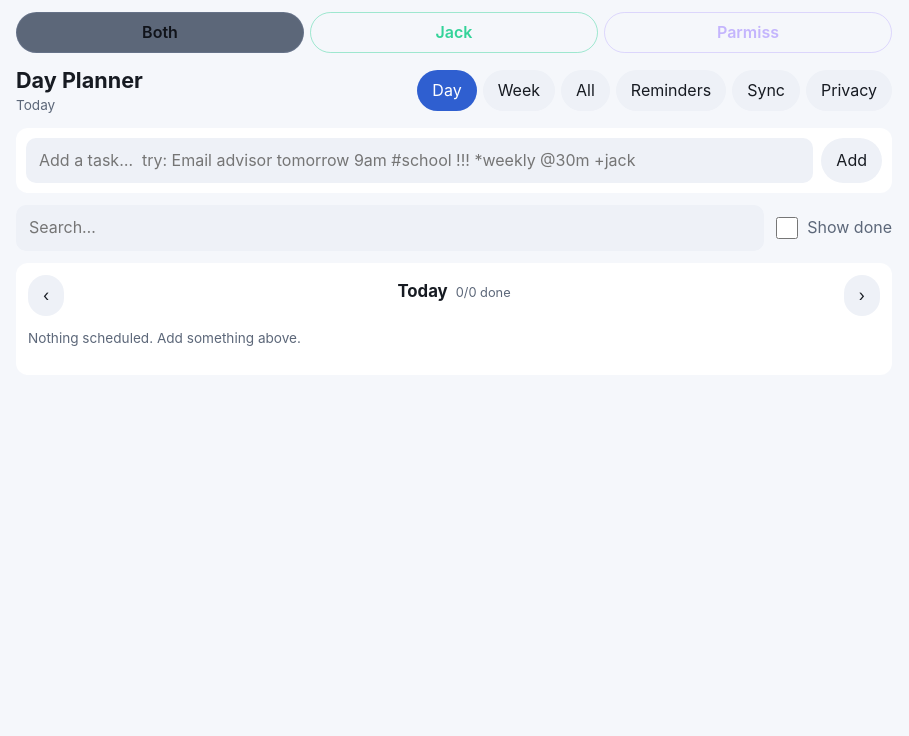
Scenario: App › reassigns a task to the other person from its details
The image size is (909, 736).
Type "Water plants" into the field labelled "Add a task" at (420, 161), box [26,138,813,183]
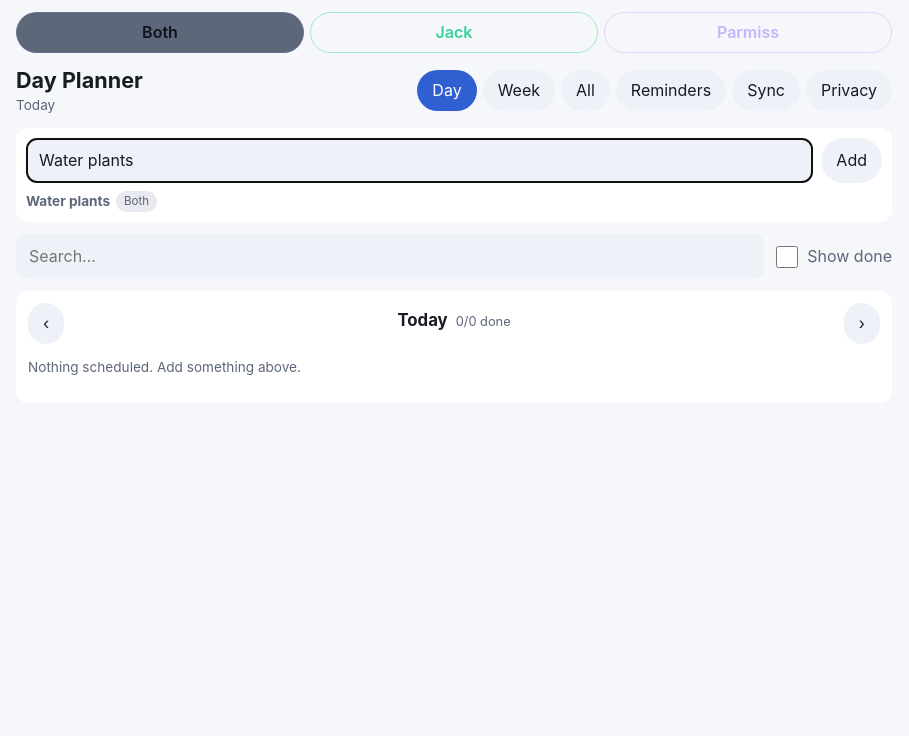
Click the button "Add" at (852, 161), box [821,138,882,183]
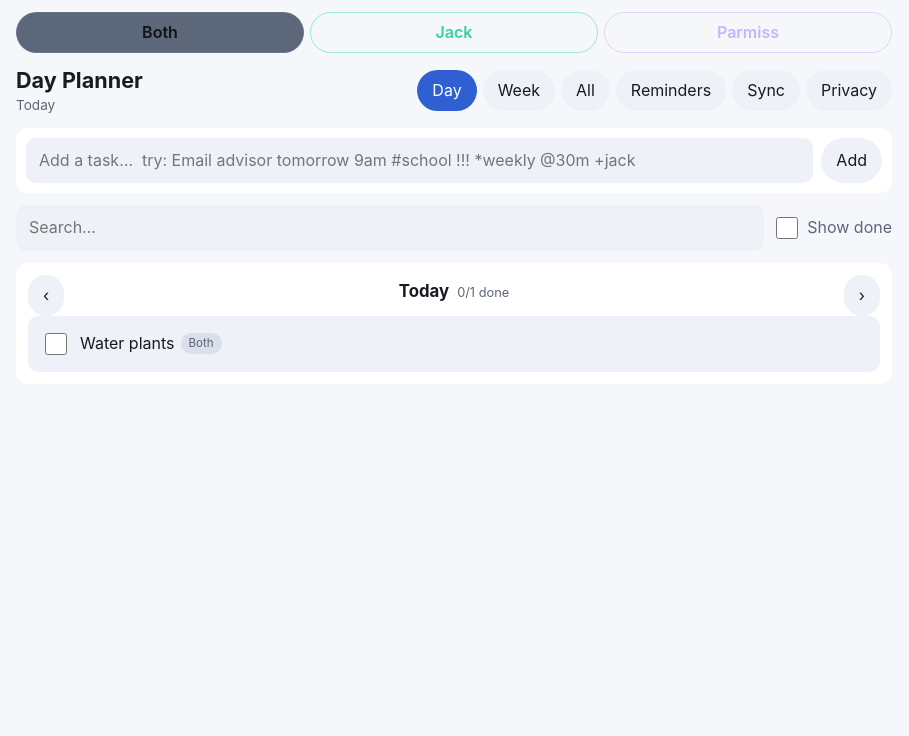
Click the button "Water plants Both" at (127, 343), box [80,324,870,364]
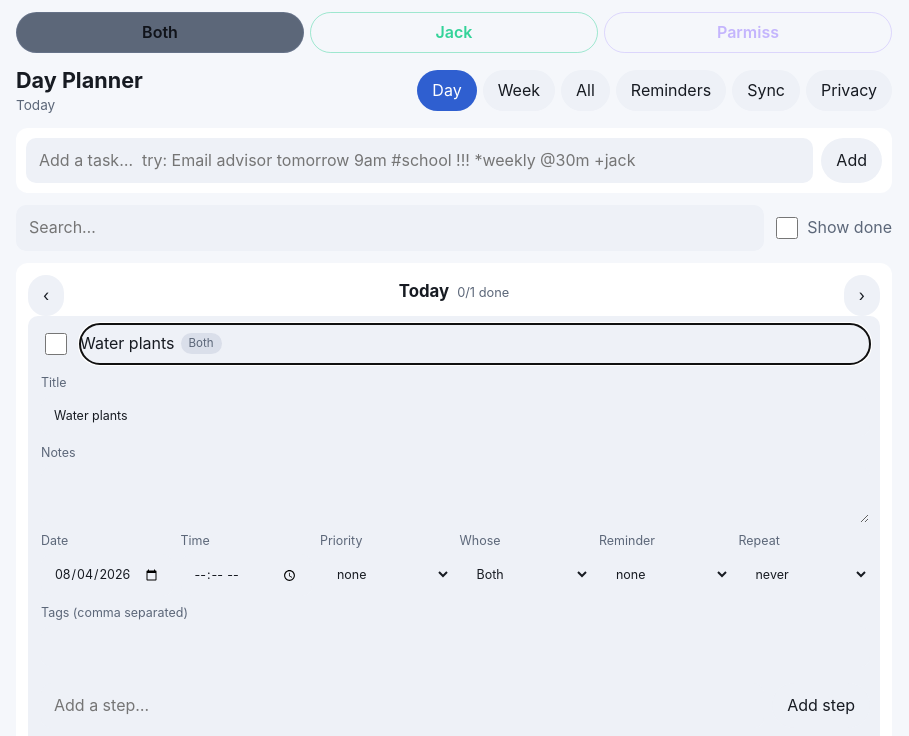
Select "Parmiss" in the dropdown labelled "Whose" at (525, 574), box [460,554,591,594]
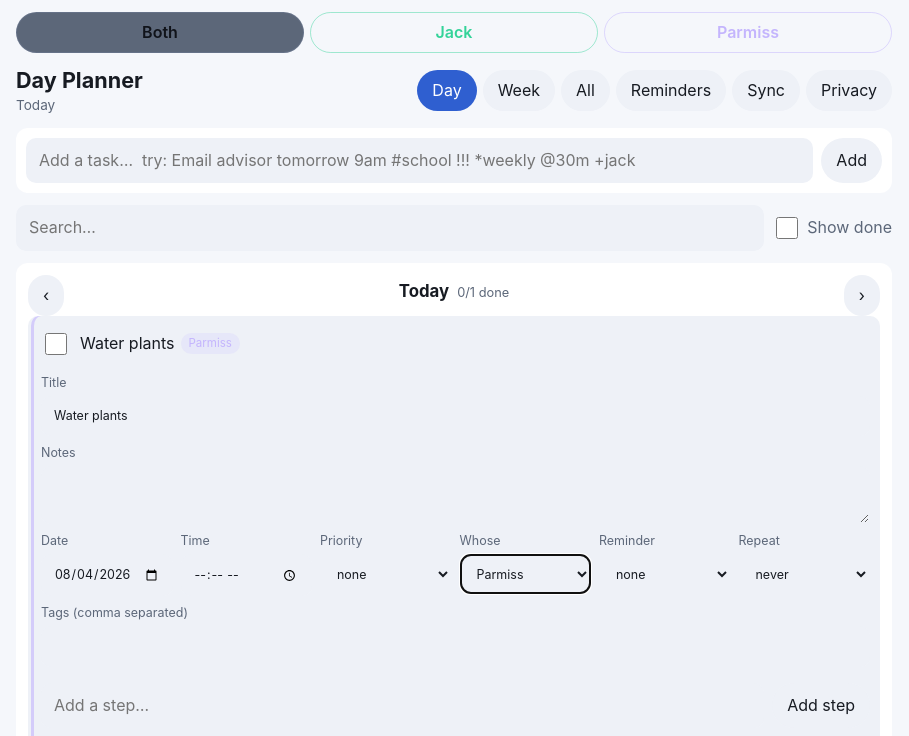
Click the button "Jack" at (454, 33), box [310,12,598,53]
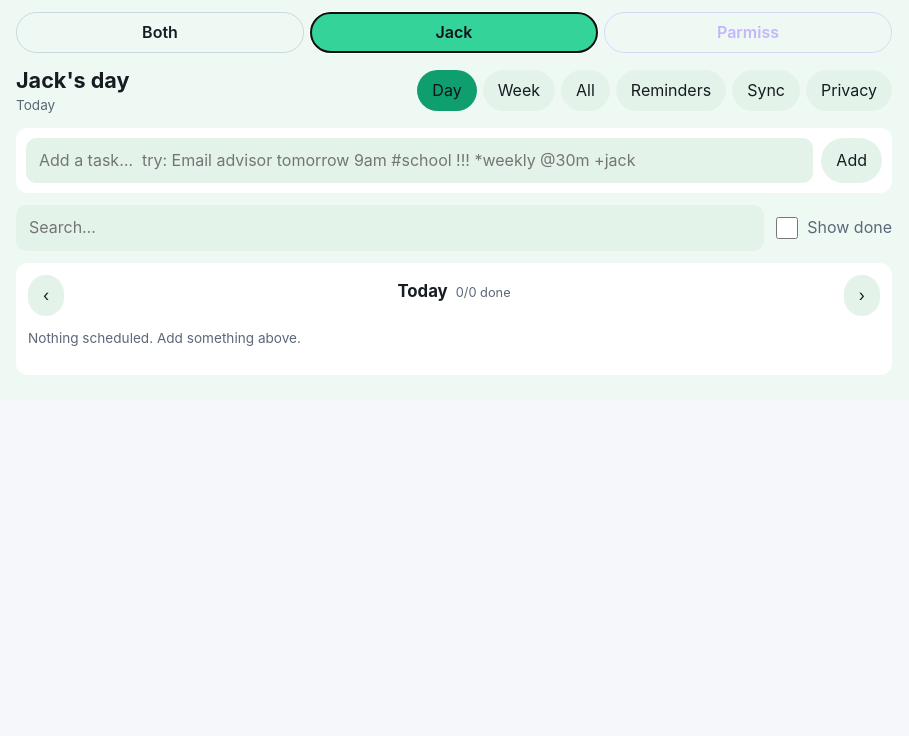
Now the button "Water plants" is gone
